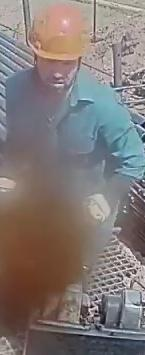gloves: (77, 190, 116, 229)
helmet: (27, 2, 89, 66)
vest: (0, 67, 144, 191)
